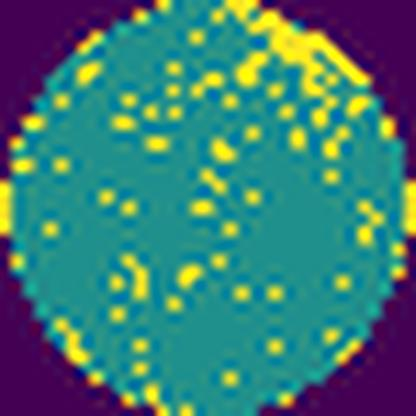Edge-Loc: (220, 0, 374, 129)
